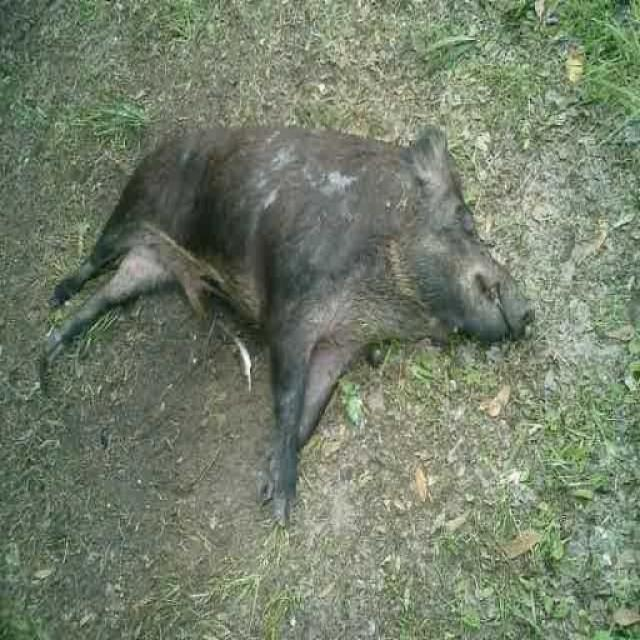pig: (55, 114, 558, 478)
